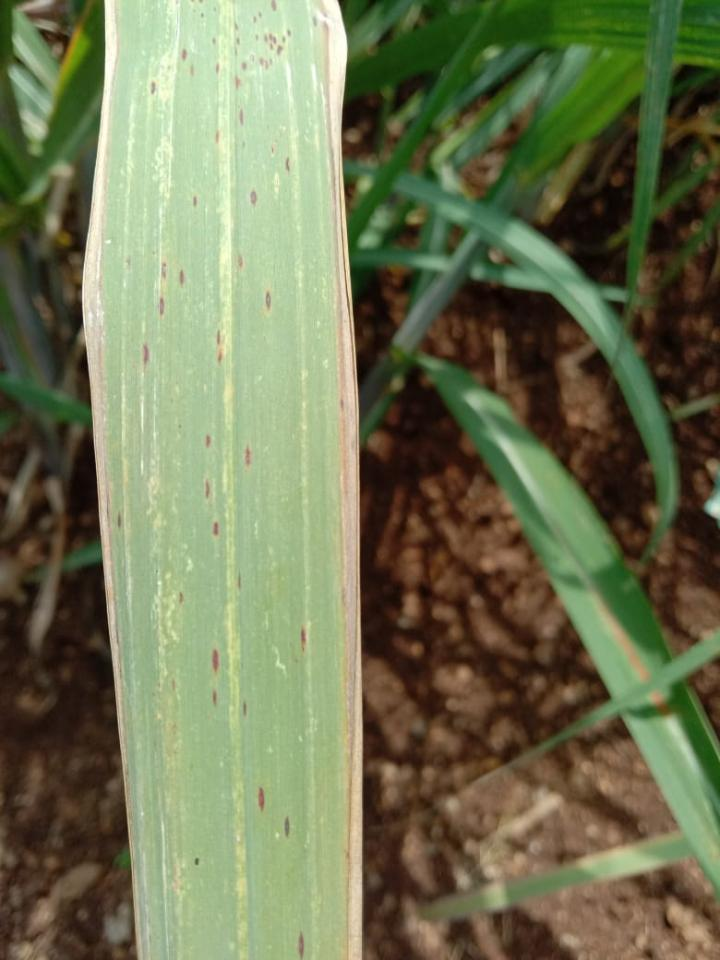Rust: (264, 33, 277, 51), (212, 647, 220, 675), (258, 57, 274, 70), (298, 930, 305, 959), (258, 786, 265, 811), (244, 444, 251, 467), (265, 289, 272, 311), (250, 189, 258, 206), (284, 816, 290, 838), (301, 627, 306, 651), (143, 344, 149, 363), (234, 76, 242, 90), (205, 478, 210, 499), (179, 268, 185, 285), (159, 296, 164, 316), (217, 347, 223, 363), (150, 80, 156, 95), (213, 521, 219, 536), (212, 689, 217, 707), (238, 109, 243, 126), (238, 254, 243, 271), (216, 329, 221, 346), (270, 0, 277, 12), (285, 156, 290, 172), (162, 262, 167, 278), (179, 590, 184, 606), (276, 44, 283, 55), (193, 193, 198, 207), (237, 572, 241, 589), (182, 47, 187, 60), (215, 131, 220, 144), (243, 701, 247, 717), (206, 435, 211, 447), (194, 856, 200, 866), (241, 62, 248, 70), (235, 36, 241, 45), (118, 512, 121, 530), (172, 679, 176, 692), (190, 64, 195, 74), (216, 62, 220, 74), (249, 54, 255, 62), (312, 17, 317, 26), (286, 29, 292, 36), (212, 36, 216, 45), (199, 12, 204, 19), (255, 34, 259, 42), (258, 12, 263, 18), (271, 144, 274, 154), (282, 36, 286, 43), (235, 23, 239, 30), (235, 47, 238, 56), (198, 0, 204, 4), (253, 17, 257, 22), (190, 0, 196, 3), (213, 7, 216, 12)
Yellow: (82, 0, 141, 959), (318, 0, 363, 959)
